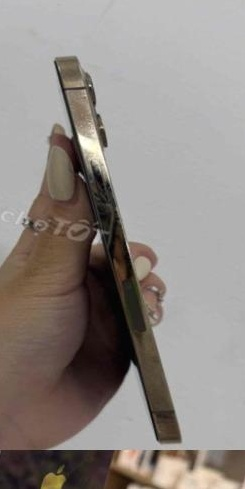scratch: (66, 165, 153, 251), (49, 84, 123, 173)
